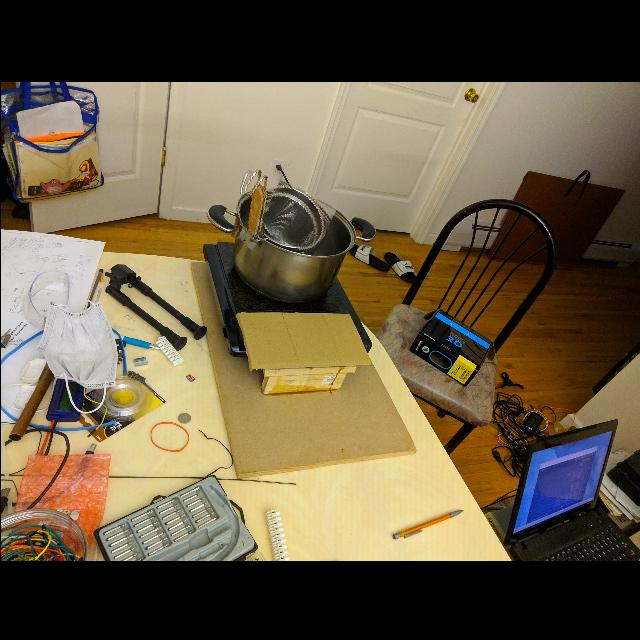Handle: (234, 166, 272, 242)
Strainer: (259, 184, 331, 250)
